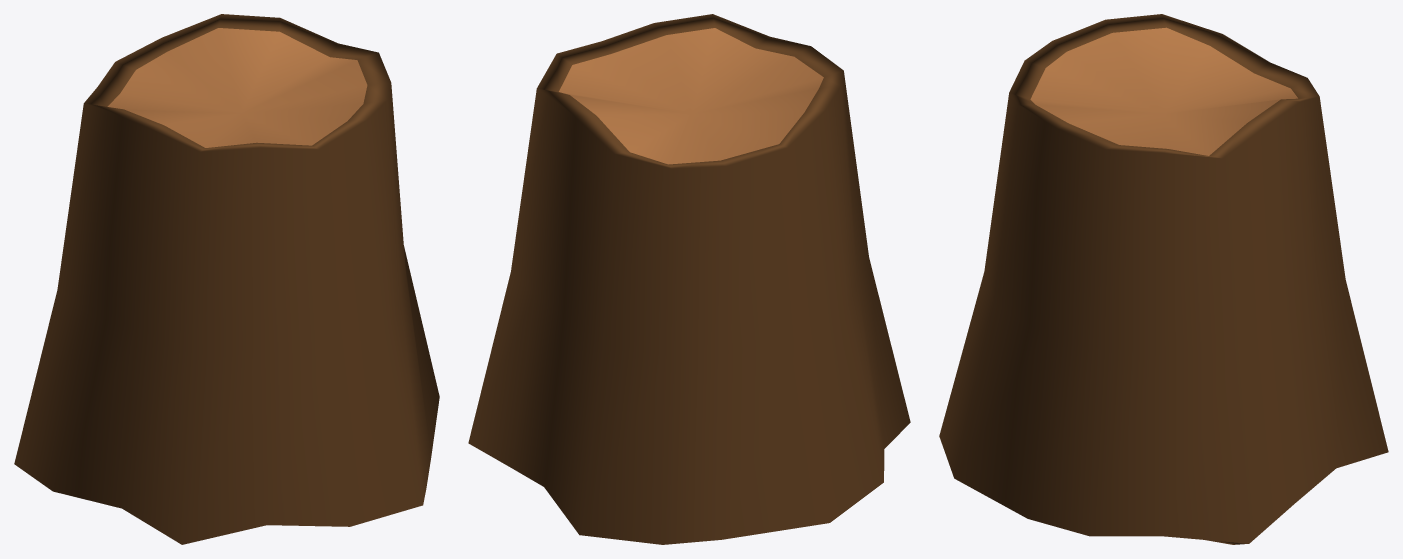
Rendered from Tree_Stump_1.fbx.
3 views of the same model, side by side, from view 1: azimuth 30°, elevation 25°; view 2: azimuth 150°, elevation 25°; view 3: azimuth 270°, elevation 25° (orthographic).
Parts seen in each view (by area): view 1: Tree_Stump_1; view 2: Tree_Stump_1; view 3: Tree_Stump_1.
Part boxes in pixels (box(x1,y1,x2,y2)): Tree_Stump_1: box(14, 14, 439, 544); Tree_Stump_1: box(468, 14, 910, 544); Tree_Stump_1: box(939, 14, 1388, 544).
Bounding box in the file's own units: 63.36 × 61.72 × 64.2.
1 material, 1 textured.
